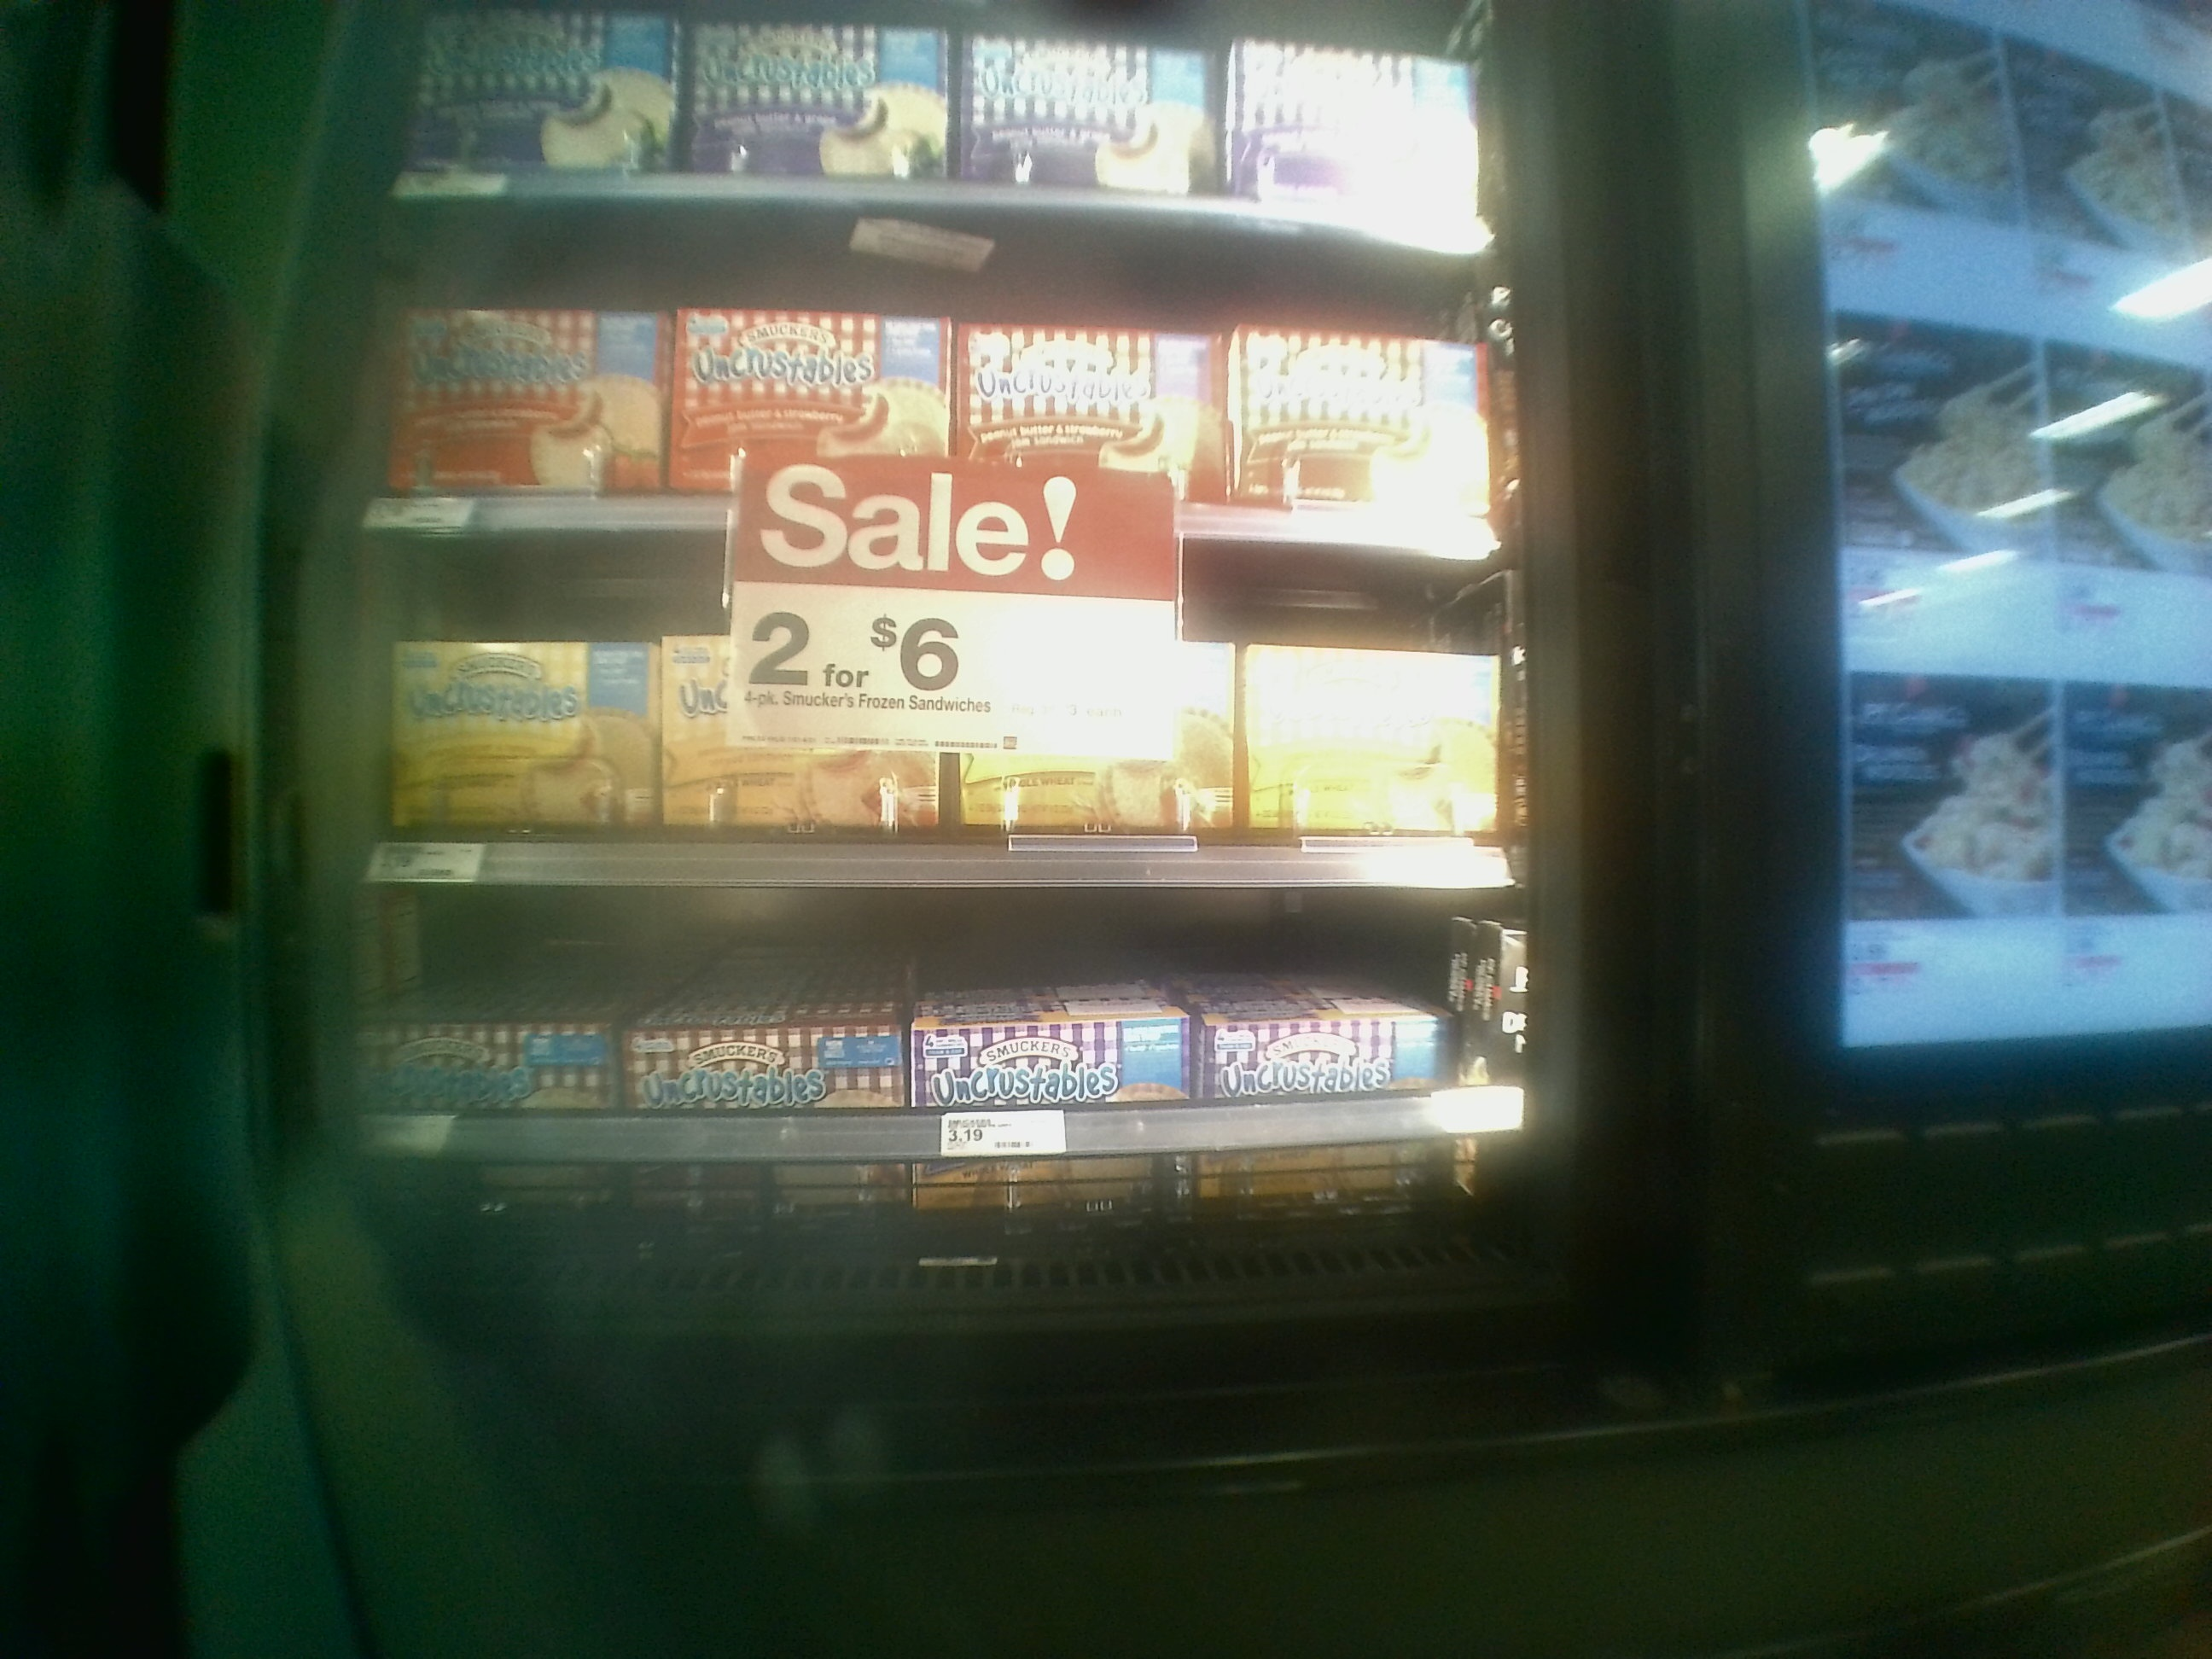shelf: (347, 889, 1561, 1324), (369, 192, 1514, 559), (350, 547, 1529, 897)
